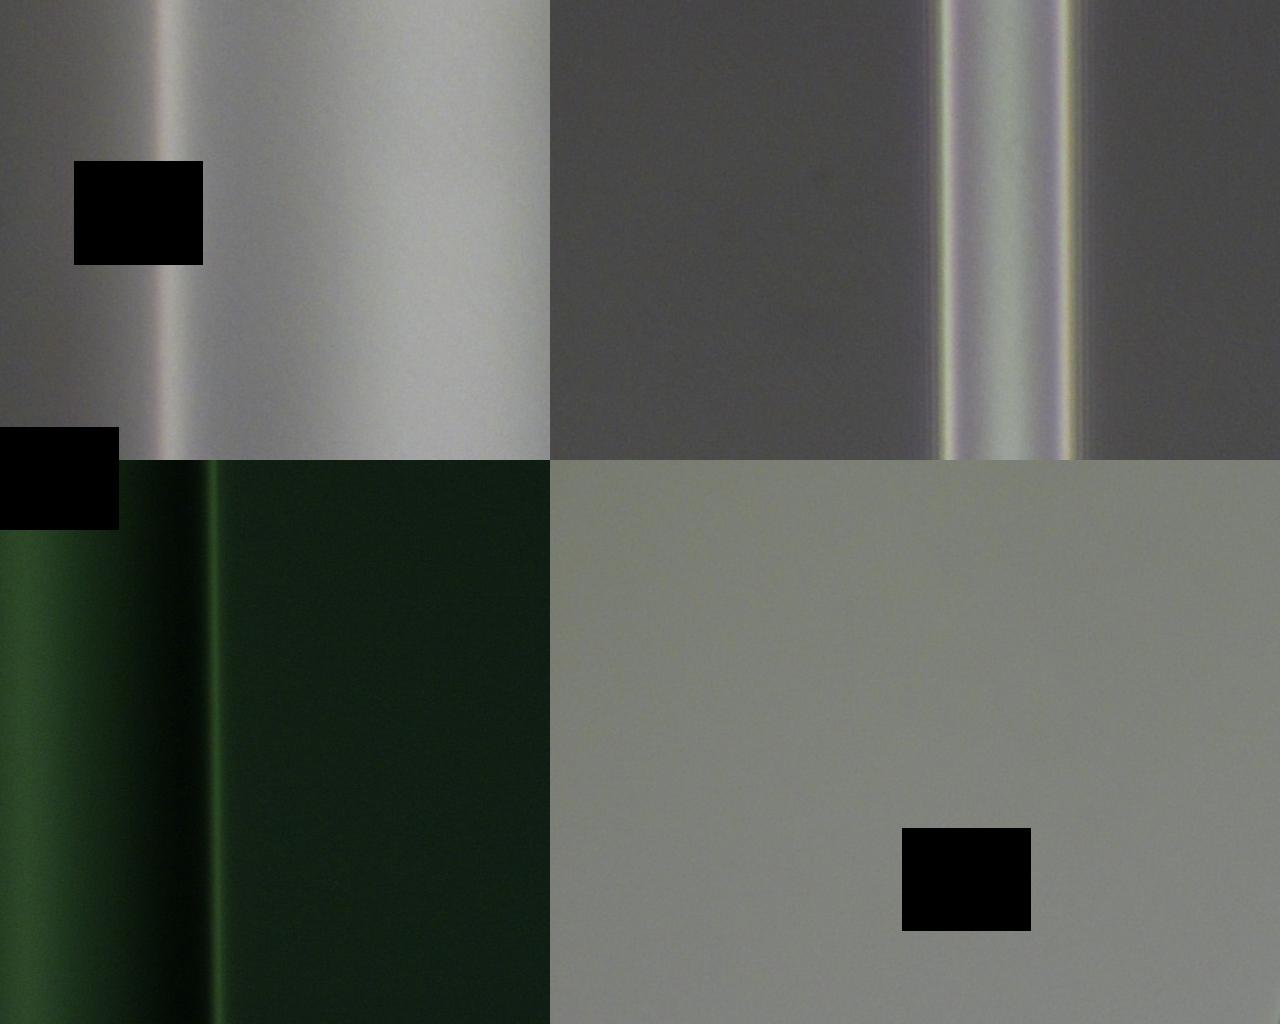fiber: (834, 0, 1280, 211), (0, 757, 716, 812), (129, 0, 247, 271)
